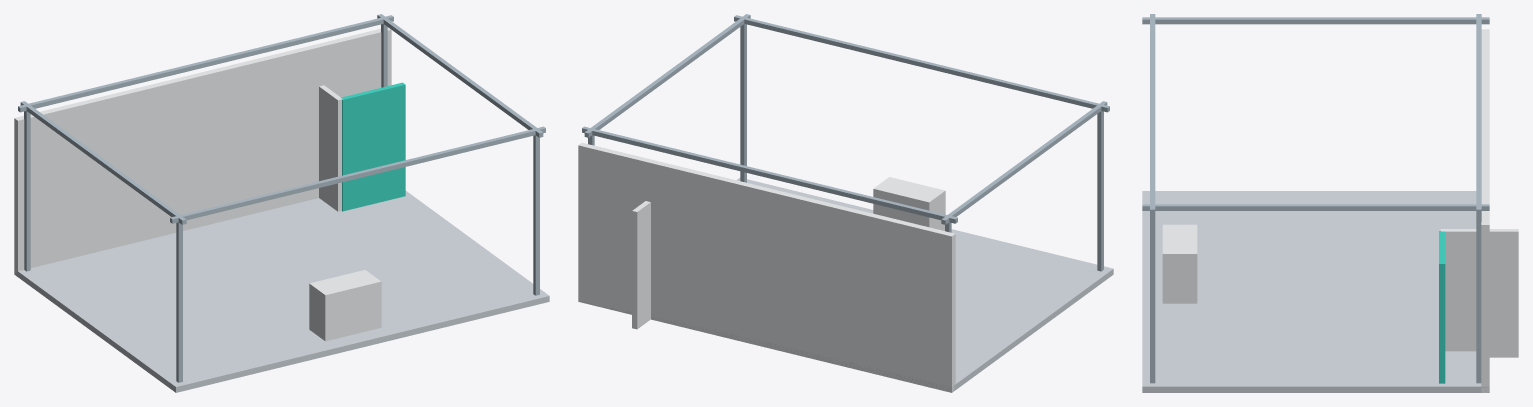
The picture shows the model from 3 angles, left to right: view 1: azimuth 30°, elevation 25°; view 2: azimuth 150°, elevation 25°; view 3: azimuth 270°, elevation 25°; orthographic projection. The views are drawn at different scales.
Parts seen in each view (by area): view 1: Exhibition Booth Concept; view 2: Exhibition Booth Concept; view 3: Exhibition Booth Concept.
Part boxes in pixels (box(x1,y1,x2,y2)): Exhibition Booth Concept: box(14, 14, 549, 392); Exhibition Booth Concept: box(578, 14, 1113, 392); Exhibition Booth Concept: box(1142, 14, 1518, 392).
Bounding box in the file's own units: 8 × 3.49 × 6.51.
